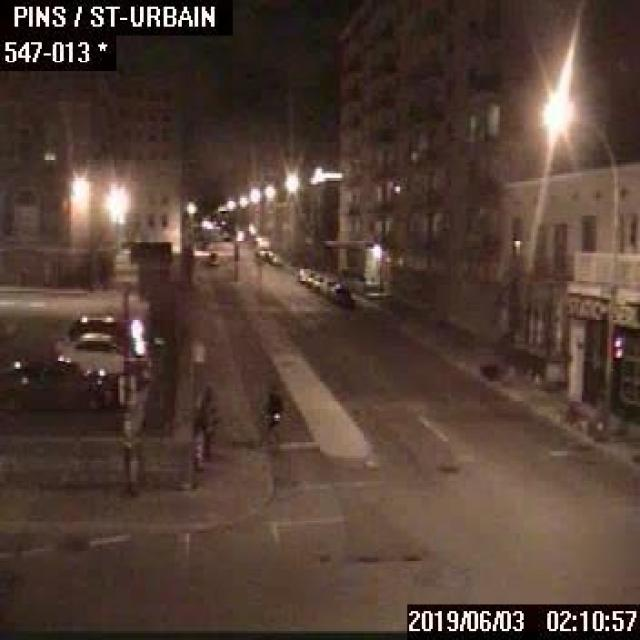cyclist: (258, 385, 282, 445)
pedestrian: (198, 382, 211, 458)
vehicle: (0, 355, 120, 409), (55, 330, 123, 375), (296, 264, 349, 300), (64, 312, 116, 332), (251, 245, 278, 262), (207, 250, 218, 264)
